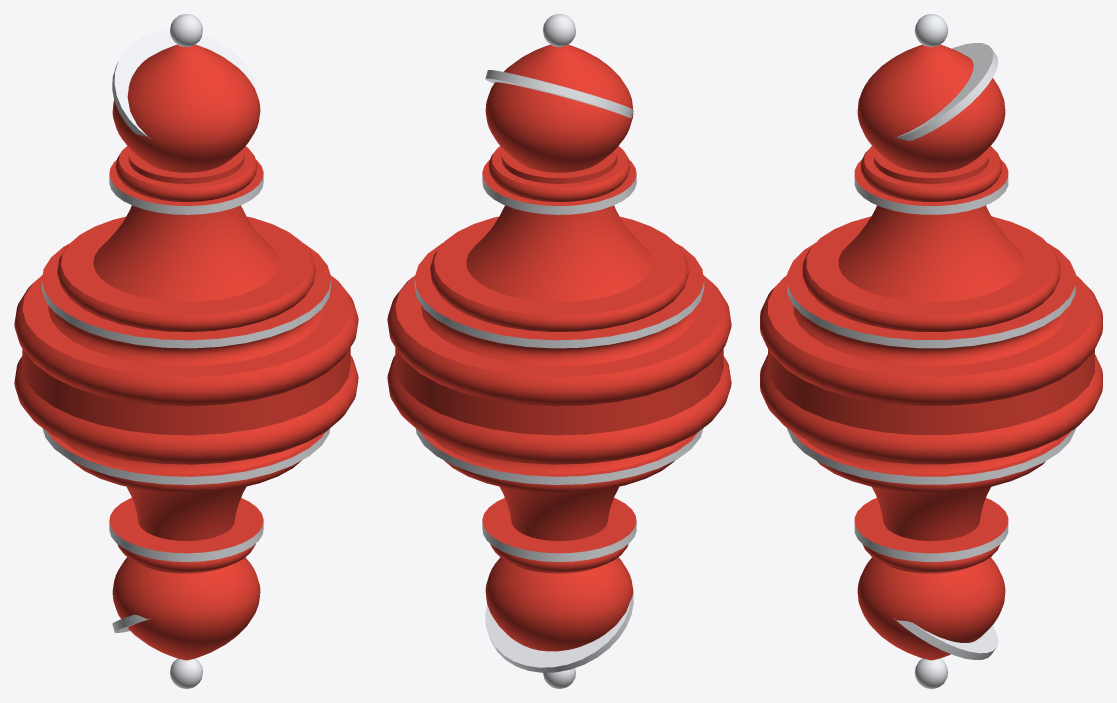
File: bishop-classic.glb
3 renders of one model, left to right at view 1: azimuth 30°, elevation 25°; view 2: azimuth 150°, elevation 25°; view 3: azimuth 270°, elevation 25°, orthographic.
Parts seen in each view (by area): view 1: bishop-classic; view 2: bishop-classic; view 3: bishop-classic.
Part boxes in pixels (x1=…): bishop-classic: x1=14, y1=14, x2=358, y2=688; bishop-classic: x1=387, y1=14, x2=731, y2=688; bishop-classic: x1=760, y1=14, x2=1102, y2=688.
Bounding box in the file's own units: 0.4579 × 0.9907 × 0.4579.
